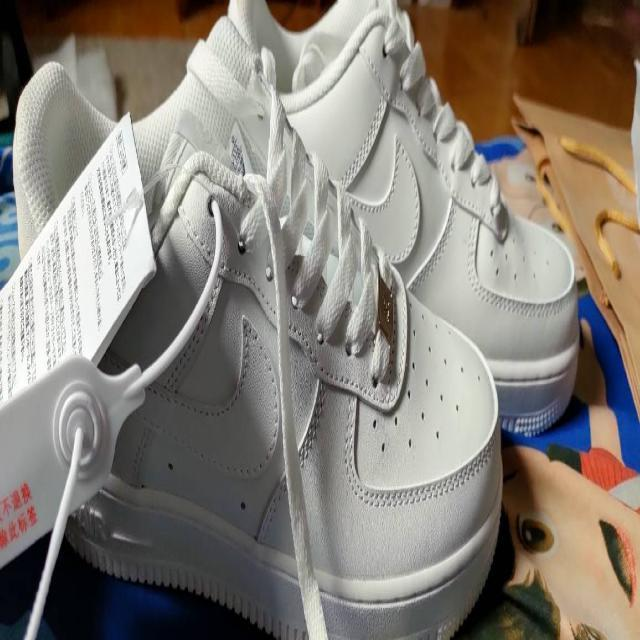nike fake air force: (11, 14, 503, 640), (226, 0, 576, 433)
